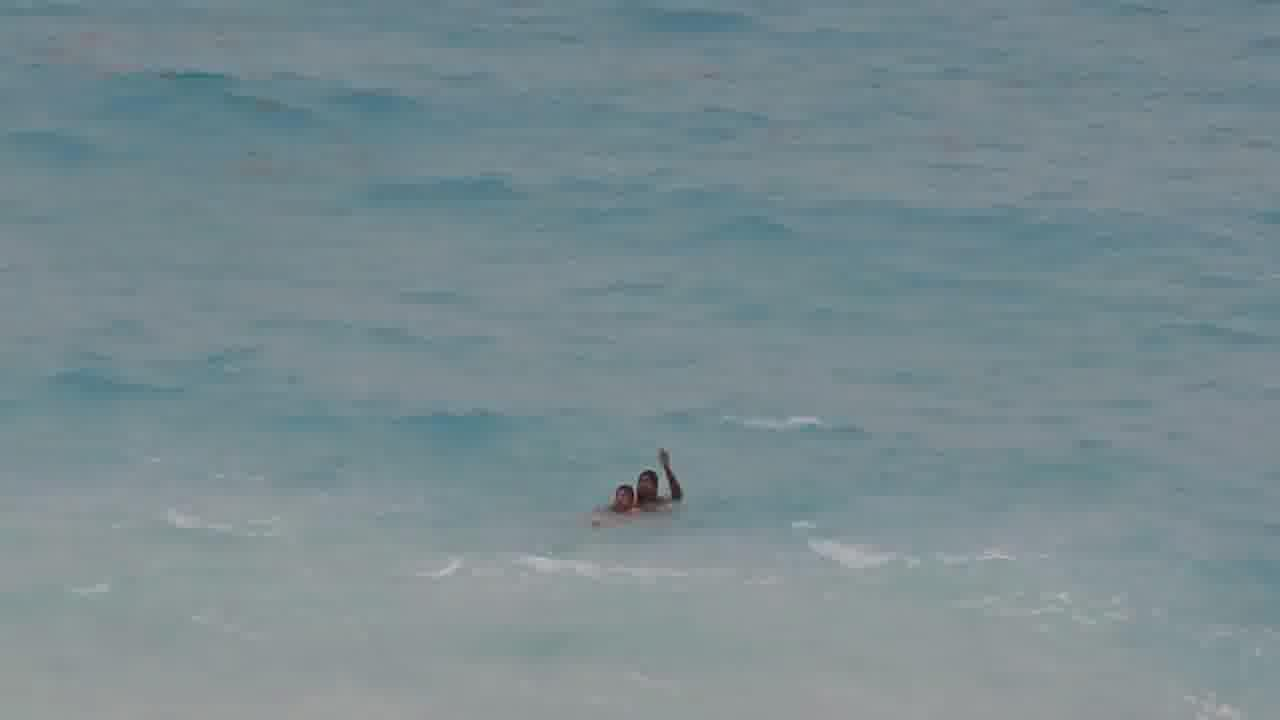swimmer: (634, 442, 692, 510), (584, 481, 638, 526)
